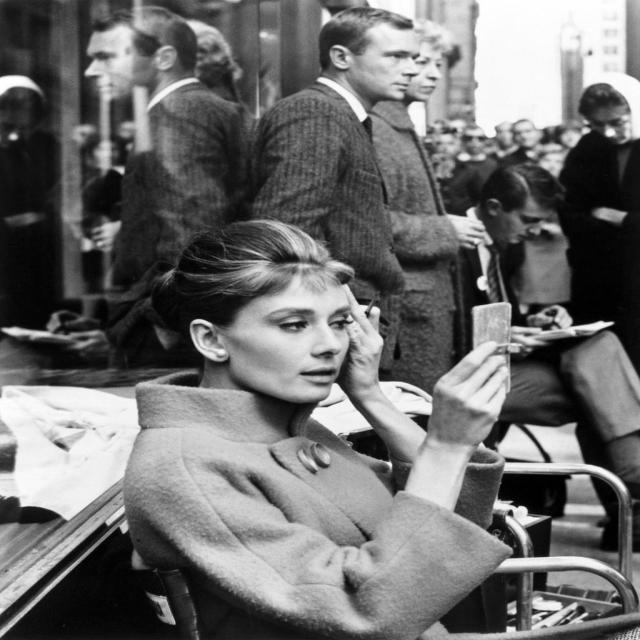smoking: (161, 216, 538, 446)
